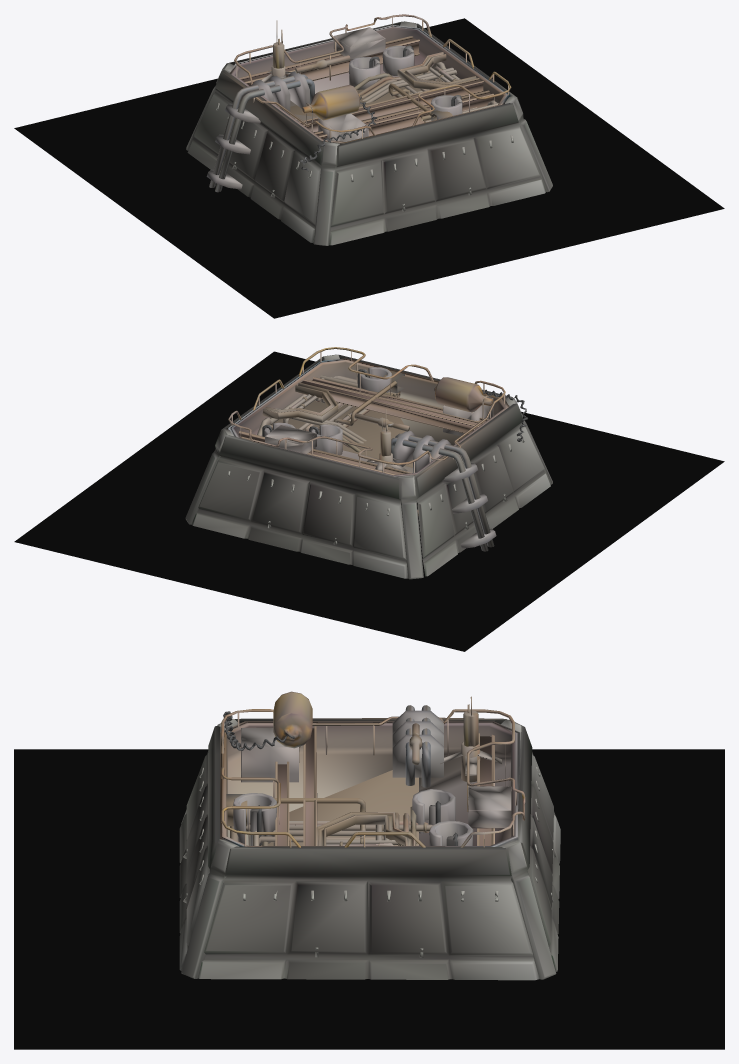
Rendered from assembling-machine-1.glb.
The picture shows the model from 3 angles, top to bottom: view 1: azimuth 30°, elevation 25°; view 2: azimuth 150°, elevation 25°; view 3: azimuth 270°, elevation 25°; orthographic projection. The views are drawn at different scales.
Parts seen in each view (by area): view 1: modelo; view 2: modelo; view 3: modelo.
Boxes of the visible parts, x1,y1,x2,y2 form: modelo: (14, 14, 724, 318); modelo: (14, 347, 724, 651); modelo: (14, 691, 724, 1049).
Size of the model in its own units: 10.62 by 3.36 by 10.62.
